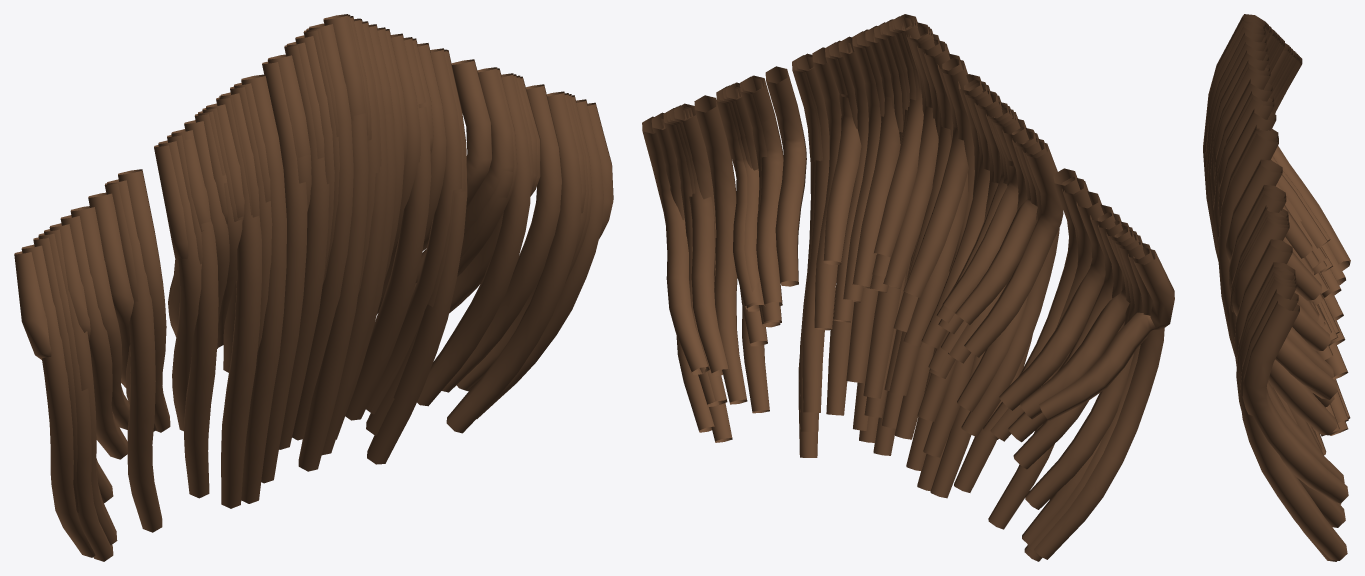
The model's file is beard-full.glb.
The picture shows the model from 3 angles, left to right: view 1: azimuth 30°, elevation 25°; view 2: azimuth 150°, elevation 25°; view 3: azimuth 270°, elevation 25°; orthographic projection. The views are drawn at different scales.
Parts seen in each view (by area): view 1: lock; view 2: lock; view 3: lock.
Boxes of the visible parts, x1=… form: lock: x1=14, y1=14, x2=613, y2=561; lock: x1=642, y1=14, x2=1174, y2=561; lock: x1=1203, y1=14, x2=1350, y2=561.
Size of the model in its own units: 0.1915 by 0.1651 by 0.0437.
